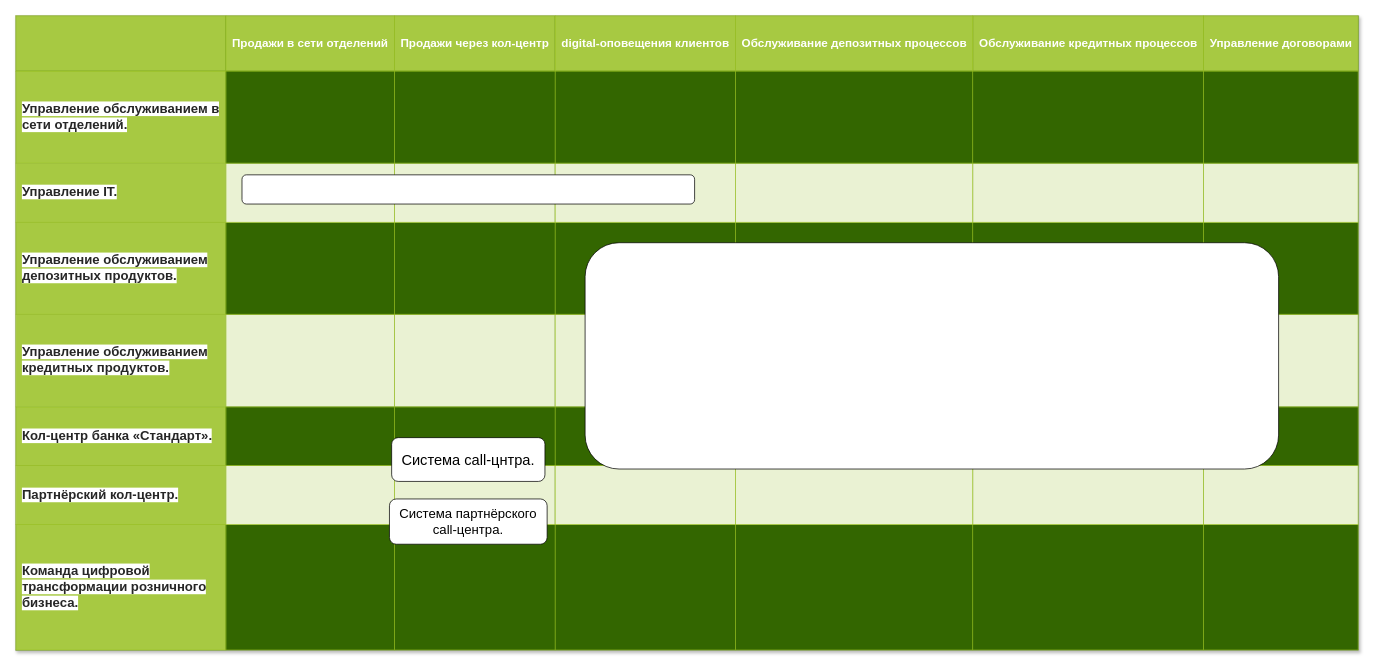
This 1376x669 diagram has some shape labels left out. The shapes that lost their labels are listed below. From the top down, each one's centre as x and y in pixels, then its label:
(468,189): SMS-шлюз / Телеком оператор.
(931,355): АБС
